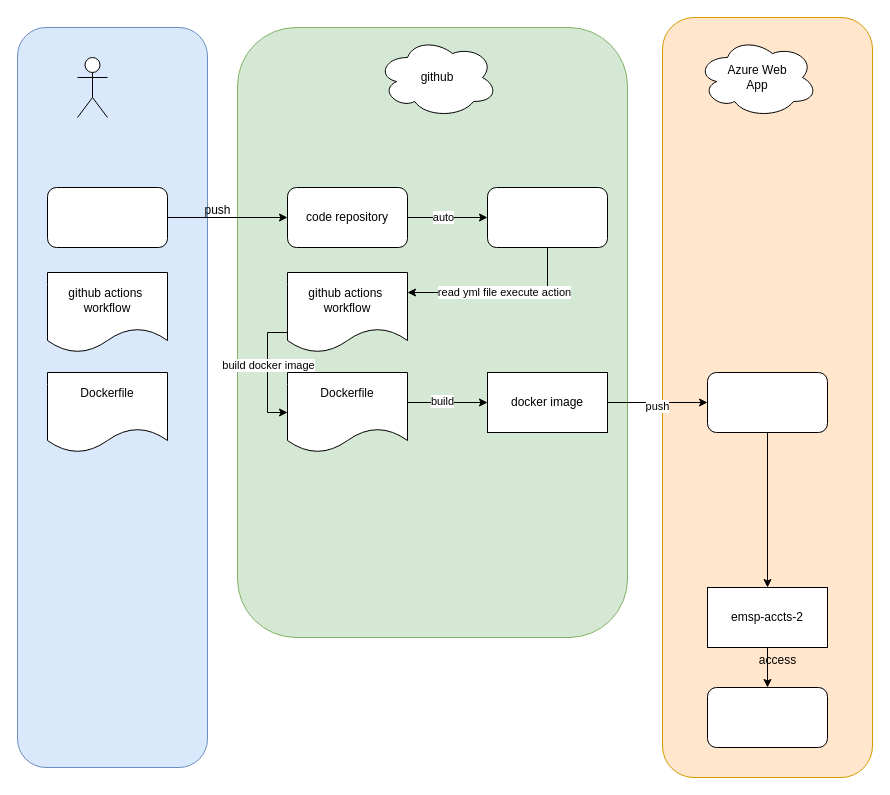
This 890x795 diagram has some shape labels left out. Here are the shapes that lost their labels. From the top down, the centre of each, then its label:
At point (92, 87): "developer".
At point (107, 217): "code change".
At point (547, 217): "actions".
At point (767, 402): "emsp-accts-uat".
At point (767, 717): "RDS（MySQL）".
